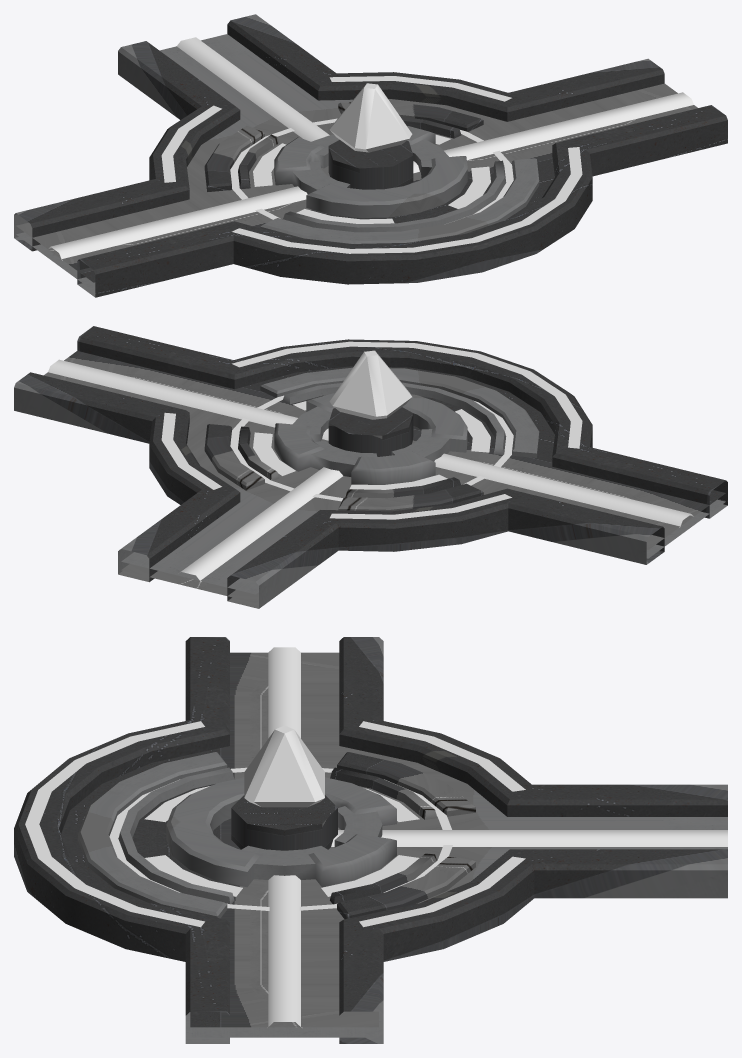
Rendered from Connecter_3Line.fbx.
3 views of the same model, one above another, from view 1: azimuth 30°, elevation 25°; view 2: azimuth 150°, elevation 25°; view 3: azimuth 270°, elevation 25° (orthographic). The views are drawn at different scales.
Parts seen in each view (by area): view 1: Connecter_3L_body, Connecter_3line, Pyramid016; view 2: Connecter_3L_body, Connecter_3line, Pyramid016; view 3: Connecter_3L_body, Connecter_3line, Pyramid016.
Part boxes in pixels (bbox=[...]): Connecter_3L_body: bbox=[14, 14, 727, 297]; Connecter_3line: bbox=[47, 37, 693, 260]; Pyramid016: bbox=[329, 83, 412, 152]; Connecter_3L_body: bbox=[14, 326, 727, 608]; Connecter_3line: bbox=[48, 341, 693, 581]; Pyramid016: bbox=[329, 350, 411, 419]; Connecter_3L_body: bbox=[14, 637, 727, 1043]; Connecter_3line: bbox=[25, 647, 727, 1027]; Pyramid016: bbox=[244, 725, 324, 807].
Size of the model in its own units: 100 by 15.81 by 80.53.
